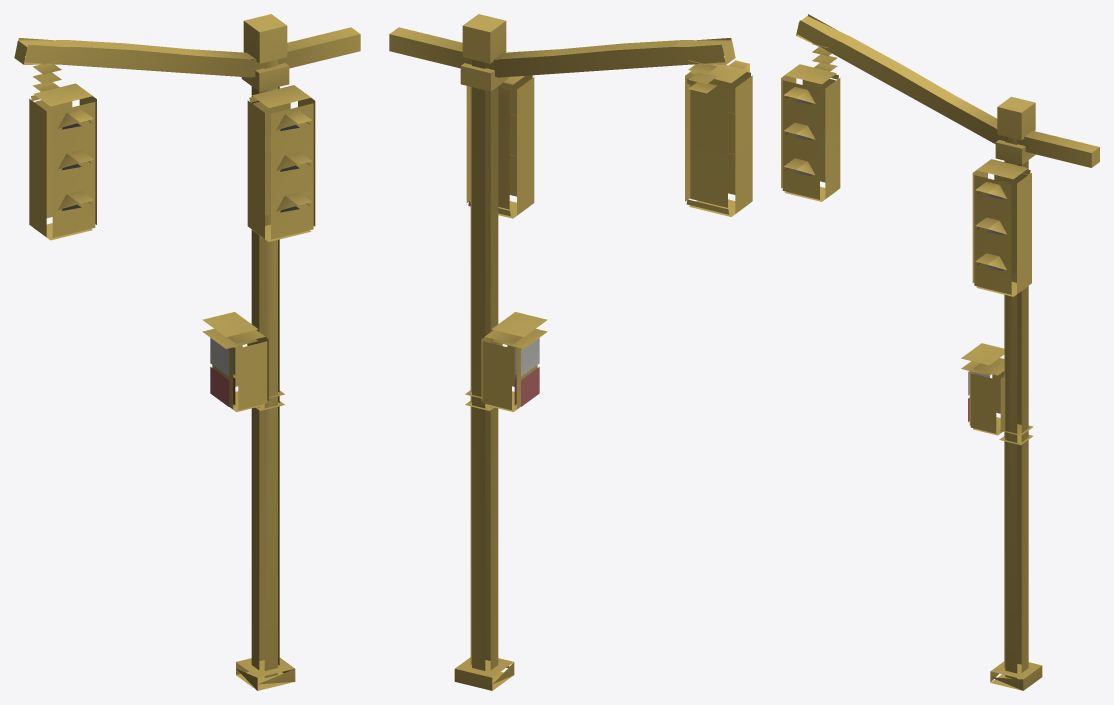
File: light.lod.glb
3 renders of one model, left to right at view 1: azimuth 30°, elevation 25°; view 2: azimuth 150°, elevation 25°; view 3: azimuth 330°, elevation 25°, orthographic. The views are drawn at different scales.
Visible parts, largest first — view 1: light; view 2: light; view 3: light.
Boxes of the visible parts, <box> form: light: <box>14,14,360,690</box>; light: <box>389,14,752,690</box>; light: <box>781,14,1099,690</box>.
Size of the model in its own units: 2.68 by 5.3 by 0.7223.
